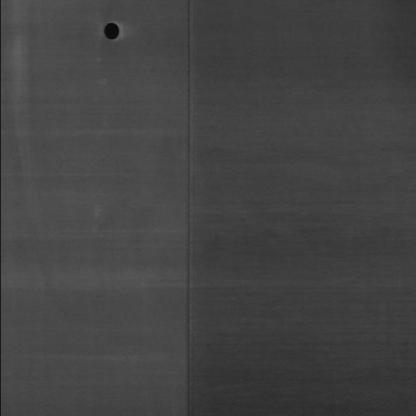punching_hole: (94, 19, 132, 45)
welding_line: (175, 0, 198, 416)
